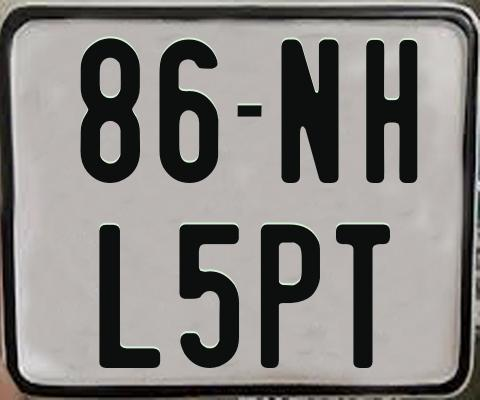5: (177, 221, 241, 365)
6: (156, 38, 220, 186)
8: (78, 38, 144, 186)
H: (364, 38, 419, 182)
L: (97, 223, 159, 368)
N: (280, 39, 339, 188)
P: (261, 222, 326, 369)
T: (333, 224, 392, 369)
